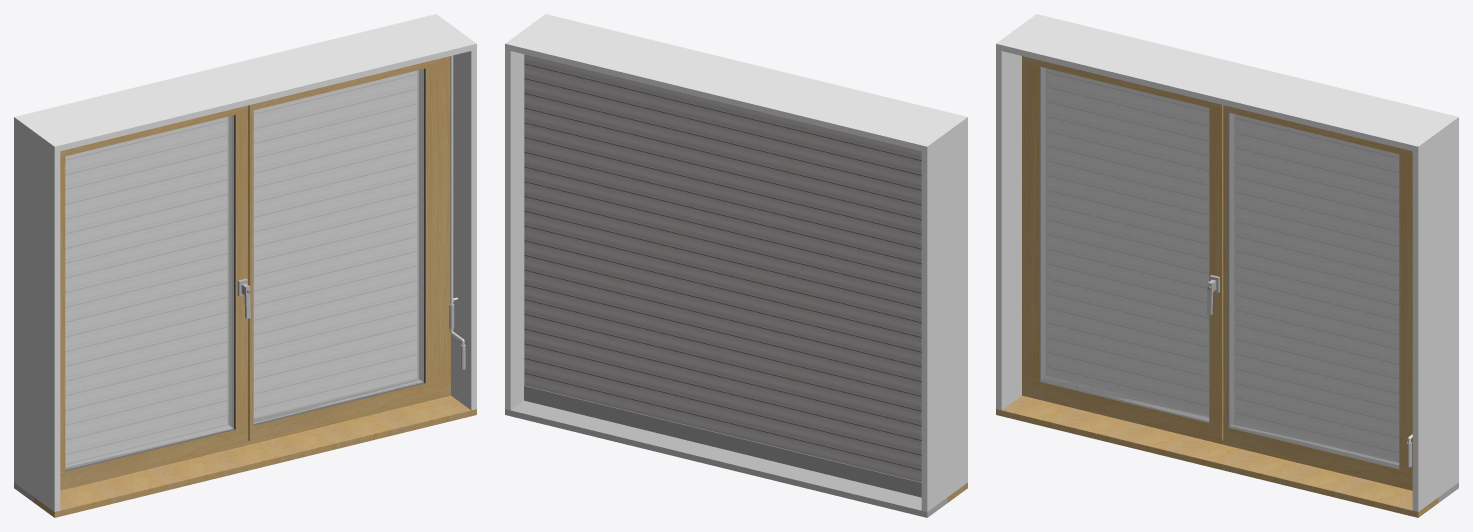
The model's file is sweethome3d-contributions-double-window-499.glb.
3 views of the same model, side by side, from view 1: azimuth 30°, elevation 25°; view 2: azimuth 150°, elevation 25°; view 3: azimuth 330°, elevation 25° (orthographic).
Visible parts, largest first — view 1: sweethome3d_opening_on_rail_1_Roller_Shutter_top_176_275, sweethome3d_opening_on_hinge_2_Window_Pane_2_wall_1_6_6_117_, sweethome3d_opening_on_hinge_1_Window_Pane_1_wall_1_6_6_33_1, 6.001, 2.001, sweethome3d_opening_on_hinge_1_Outside_Inner_Frame_1_front_5, 1.001, sweethome3d_opening_on_hinge_2_Inside_Inner_Frame_2_top_161_, 7.001, sweethome3d_opening_on_hinge_2_Outside_Inner_Frame_2_top_137, sweethome3d_opening_on_hinge_3_Roller_Shutter_Crank_Sphere_2; view 2: sweethome3d_opening_on_rail_1_Roller_Shutter_top_176_275, 2.001, 6.001, 5.001; view 3: sweethome3d_opening_on_rail_1_Roller_Shutter_top_176_275, sweethome3d_opening_on_hinge_2_Window_Pane_2_wall_1_6_6_117_, sweethome3d_opening_on_hinge_1_Window_Pane_1_wall_1_6_6_33_1, 6.001, sweethome3d_opening_on_hinge_1_Outside_Inner_Frame_1_front_5, 2.001, 1.001, sweethome3d_opening_on_hinge_2_Inside_Inner_Frame_2_top_161_, sweethome3d_opening_on_hinge_2_Outside_Inner_Frame_2_top_137, 7.001.
Part boxes in pixels (box(x1,y1,x2,y2)): sweethome3d_opening_on_rail_1_Roller_Shutter_top_176_275: box(65, 71, 416, 462); sweethome3d_opening_on_hinge_2_Window_Pane_2_wall_1_6_6_117_: box(253, 69, 423, 423); sweethome3d_opening_on_hinge_1_Window_Pane_1_wall_1_6_6_33_1: box(65, 115, 233, 469); 6.001: box(34, 29, 476, 511); 2.001: box(14, 14, 456, 496); sweethome3d_opening_on_hinge_1_Outside_Inner_Frame_1_front_5: box(60, 105, 248, 487); 1.001: box(34, 395, 476, 517); sweethome3d_opening_on_hinge_2_Inside_Inner_Frame_2_top_161_: box(248, 59, 439, 441); 7.001: box(60, 56, 450, 490); sweethome3d_opening_on_hinge_2_Outside_Inner_Frame_2_top_137: box(253, 68, 425, 425); sweethome3d_opening_on_hinge_3_Roller_Shutter_Crank_Sphere_2: box(449, 55, 465, 369); sweethome3d_opening_on_rail_1_Roller_Shutter_top_176_275: box(524, 54, 921, 497); 2.001: box(505, 29, 947, 511); 6.001: box(525, 14, 967, 496); 5.001: box(505, 400, 947, 517); sweethome3d_opening_on_rail_1_Roller_Shutter_top_176_275: box(1047, 69, 1398, 460); sweethome3d_opening_on_hinge_2_Window_Pane_2_wall_1_6_6_117_: box(1229, 113, 1399, 467); sweethome3d_opening_on_hinge_1_Window_Pane_1_wall_1_6_6_33_1: box(1040, 67, 1209, 421); 6.001: box(996, 29, 1438, 511); sweethome3d_opening_on_hinge_1_Outside_Inner_Frame_1_front_5: box(1025, 56, 1223, 440); 2.001: box(1016, 14, 1458, 496); 1.001: box(996, 395, 1438, 517); sweethome3d_opening_on_hinge_2_Inside_Inner_Frame_2_top_161_: box(1223, 105, 1412, 487); sweethome3d_opening_on_hinge_2_Outside_Inner_Frame_2_top_137: box(1227, 112, 1399, 469); 7.001: box(1022, 56, 1412, 490).
Bounding box in the file's own units: 150 × 126 × 25.
Materials: 22 (5 with a texture image).
